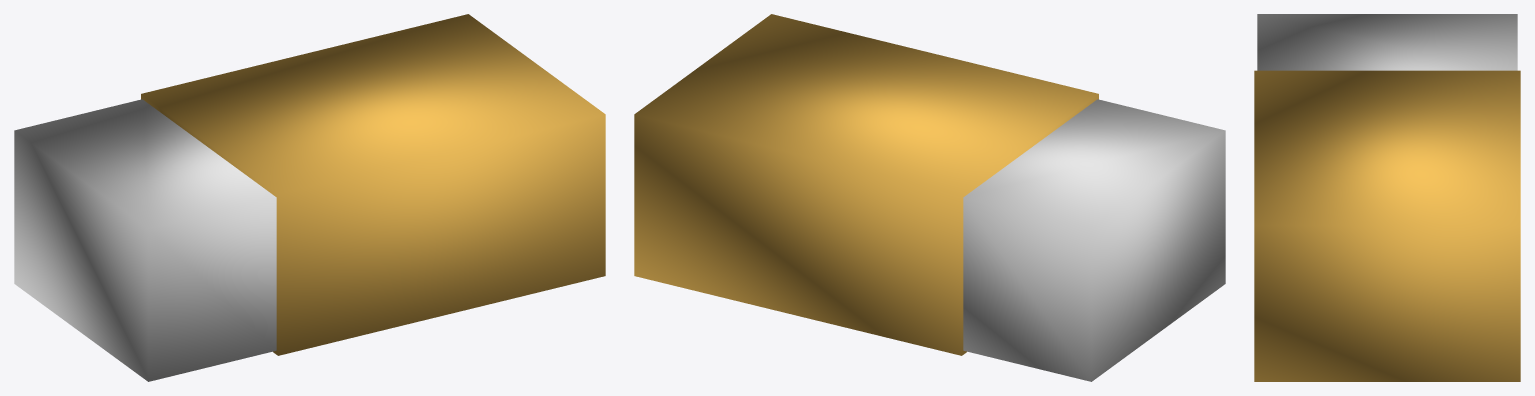
File: eraser.glb
3 renders of one model, left to right at view 1: azimuth 30°, elevation 25°; view 2: azimuth 150°, elevation 25°; view 3: azimuth 270°, elevation 25°, orthographic. The views are drawn at different scales.
Parts seen in each view (by area): view 1: Cube.001, Cube; view 2: Cube.001, Cube; view 3: Cube.001, Cube.
Boxes of the visible parts, bbox=[...] form: Cube.001: bbox=[141, 14, 605, 355]; Cube: bbox=[14, 99, 276, 381]; Cube.001: bbox=[634, 14, 1098, 355]; Cube: bbox=[963, 99, 1225, 381]; Cube.001: bbox=[1254, 70, 1520, 381]; Cube: bbox=[1257, 14, 1517, 70].
Bounding box in the file's own units: 1.25 × 0.4231 × 0.6522.
